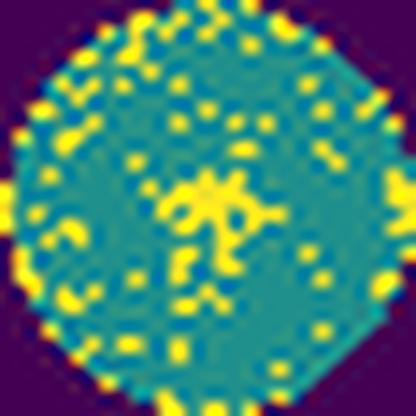Center: (148, 166, 296, 278)
